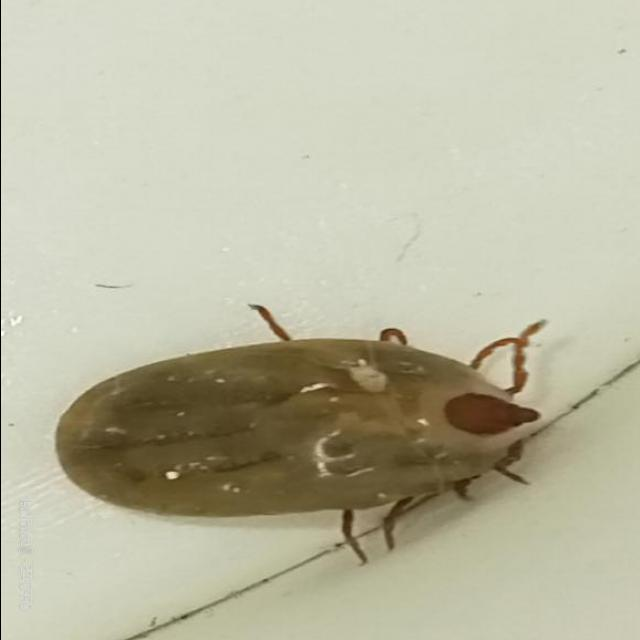Rhipicephalus Sanguineus-F-Fed: (49, 313, 545, 559)
